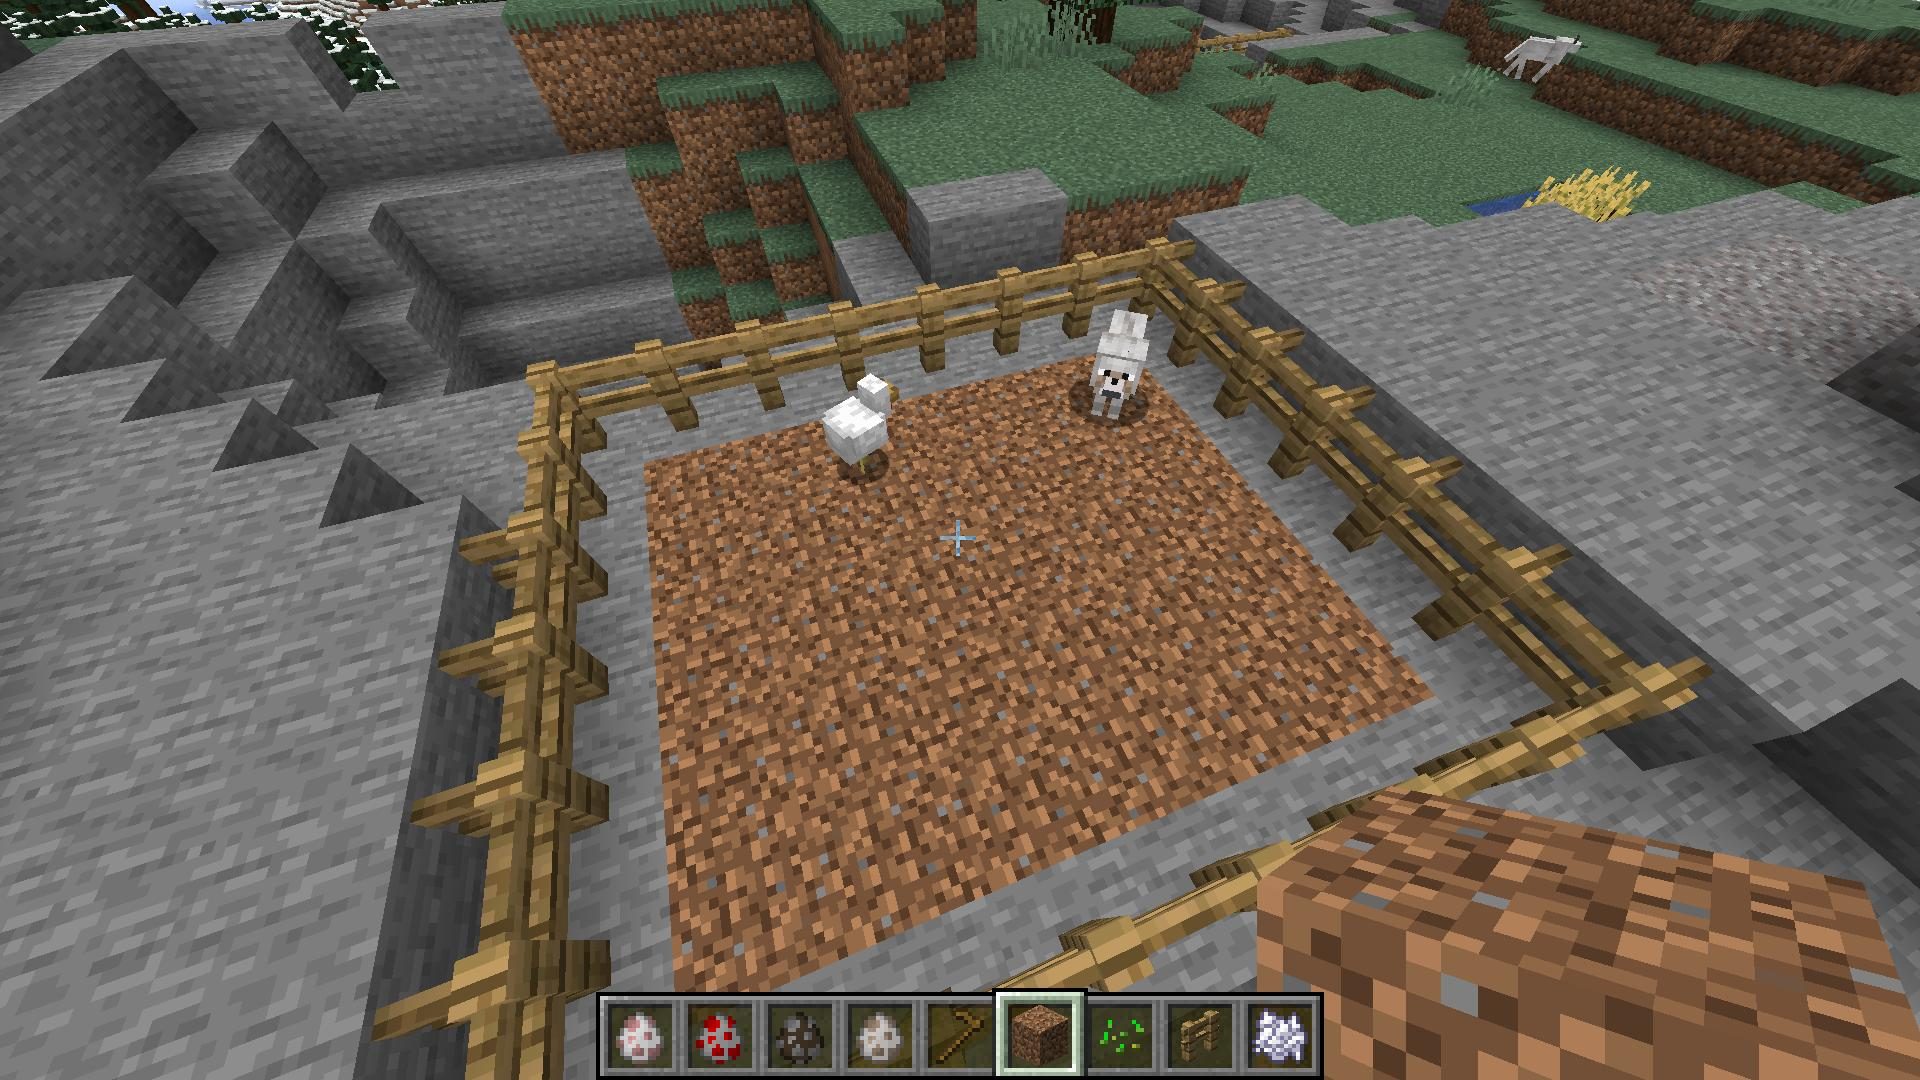chicken: (820, 372, 903, 480)
wolf: (1088, 306, 1151, 423)
